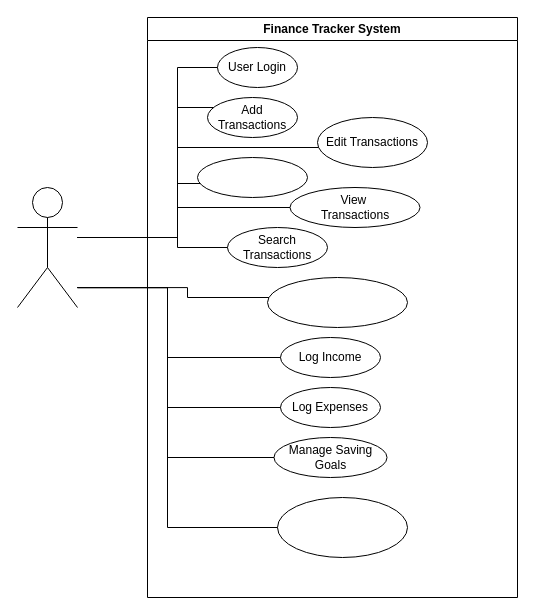
The diagram is 535 pixels wide and 615 high, and some of its shapes have lost their labels. The shapes that lost their labels are listed below. From the top down, each one's box as (x1, y1, x2, y2) in pixels, then its label:
(196, 156, 308, 198): Delete Transactions
(16, 186, 78, 308): User
(266, 276, 408, 328): Export Transactions (CSV/PDF )
(276, 496, 408, 558): Set deductibles
